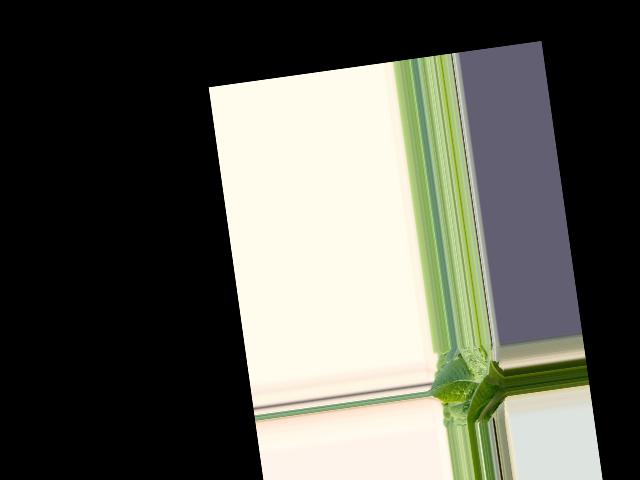lettuce: (430, 349, 510, 427)
